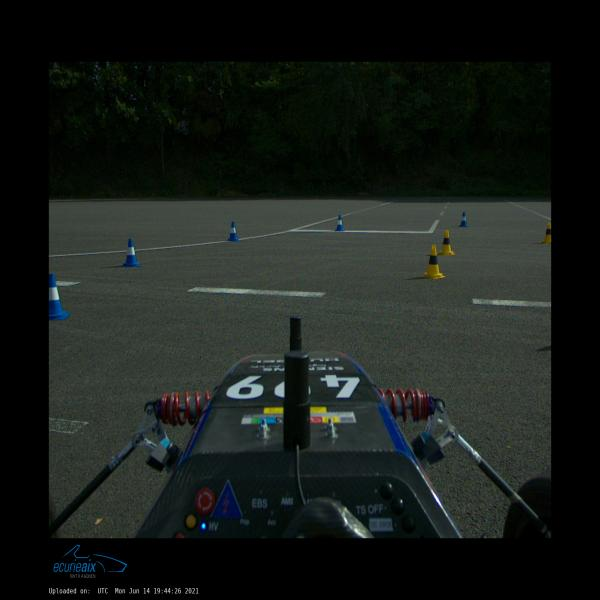blue_cone: (49, 274, 70, 320), (122, 239, 141, 267), (226, 222, 240, 241), (335, 215, 345, 231), (458, 212, 468, 227)
yellow_cone: (421, 245, 445, 278), (439, 230, 456, 255), (540, 222, 552, 244)
